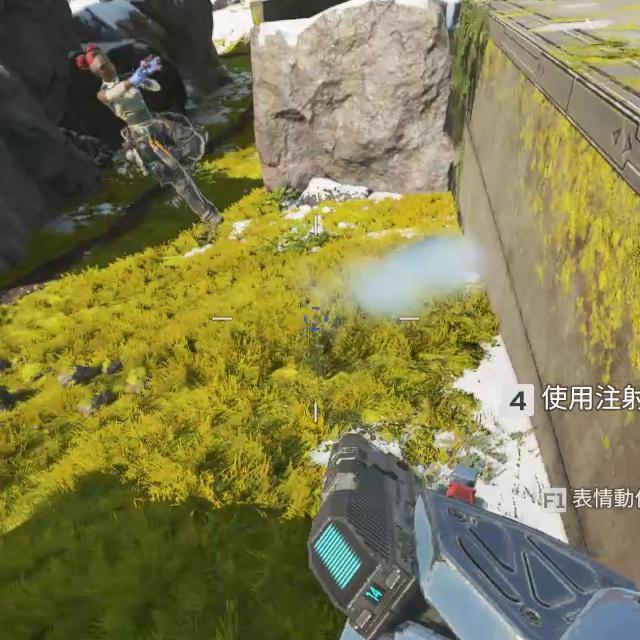avatar: (75, 42, 224, 224)
